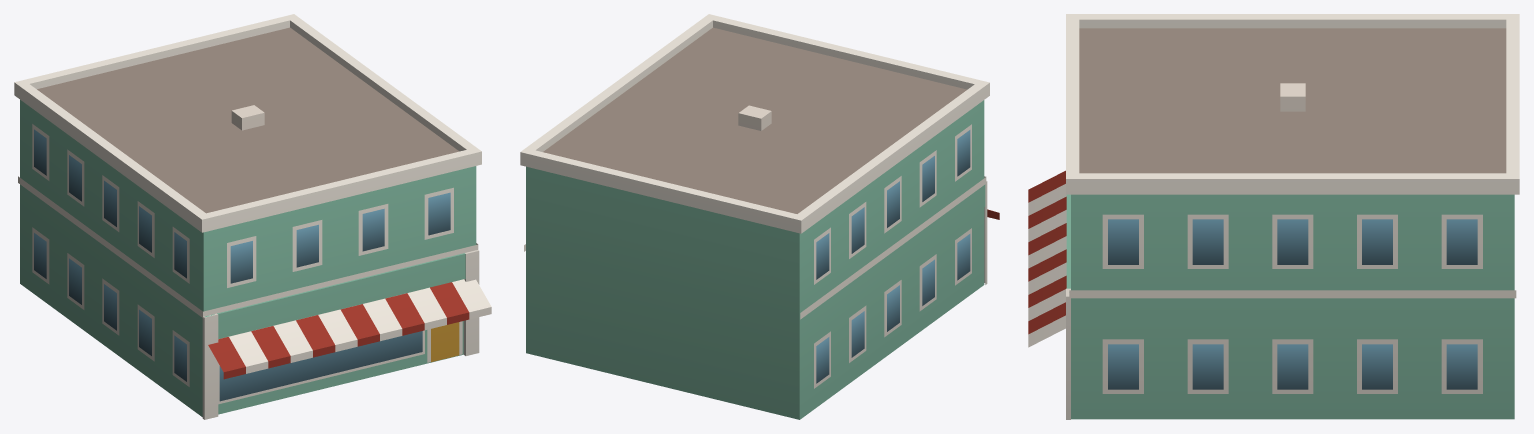
File: boylston_s2_far.glb
3 renders of one model, left to right at view 1: azimuth 30°, elevation 25°; view 2: azimuth 150°, elevation 25°; view 3: azimuth 270°, elevation 25°, orthographic. The views are drawn at different scales.
Parts seen in each view (by area): view 1: boylston_s2_far; view 2: boylston_s2_far; view 3: boylston_s2_far.
Part boxes in pixels (box(x1,y1,x2,y2)): boylston_s2_far: box(14, 14, 491, 419); boylston_s2_far: box(520, 14, 999, 419); boylston_s2_far: box(1028, 14, 1519, 419).
Bounding box in the file's own units: 12.32 × 8.67 × 15.51.
1 material, 1 textured.
